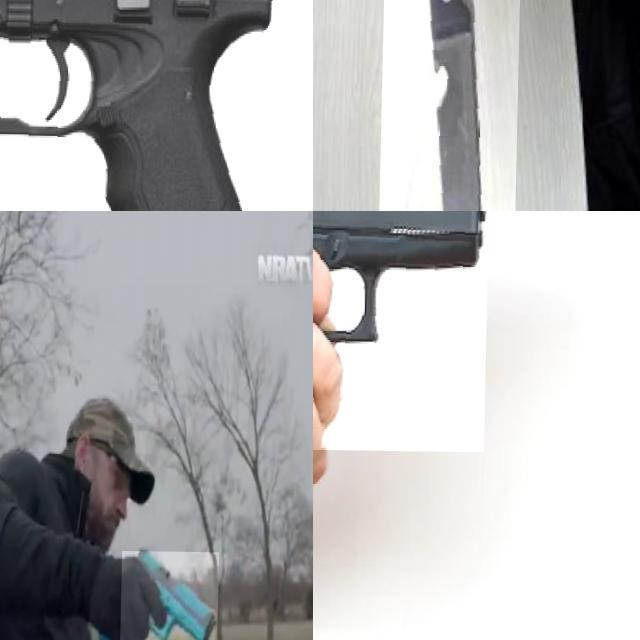-: (378, 0, 525, 211)
gun-knife-thesis - v11 Yolov5 augmented: (0, 0, 282, 211), (313, 211, 490, 451), (122, 549, 220, 640)
